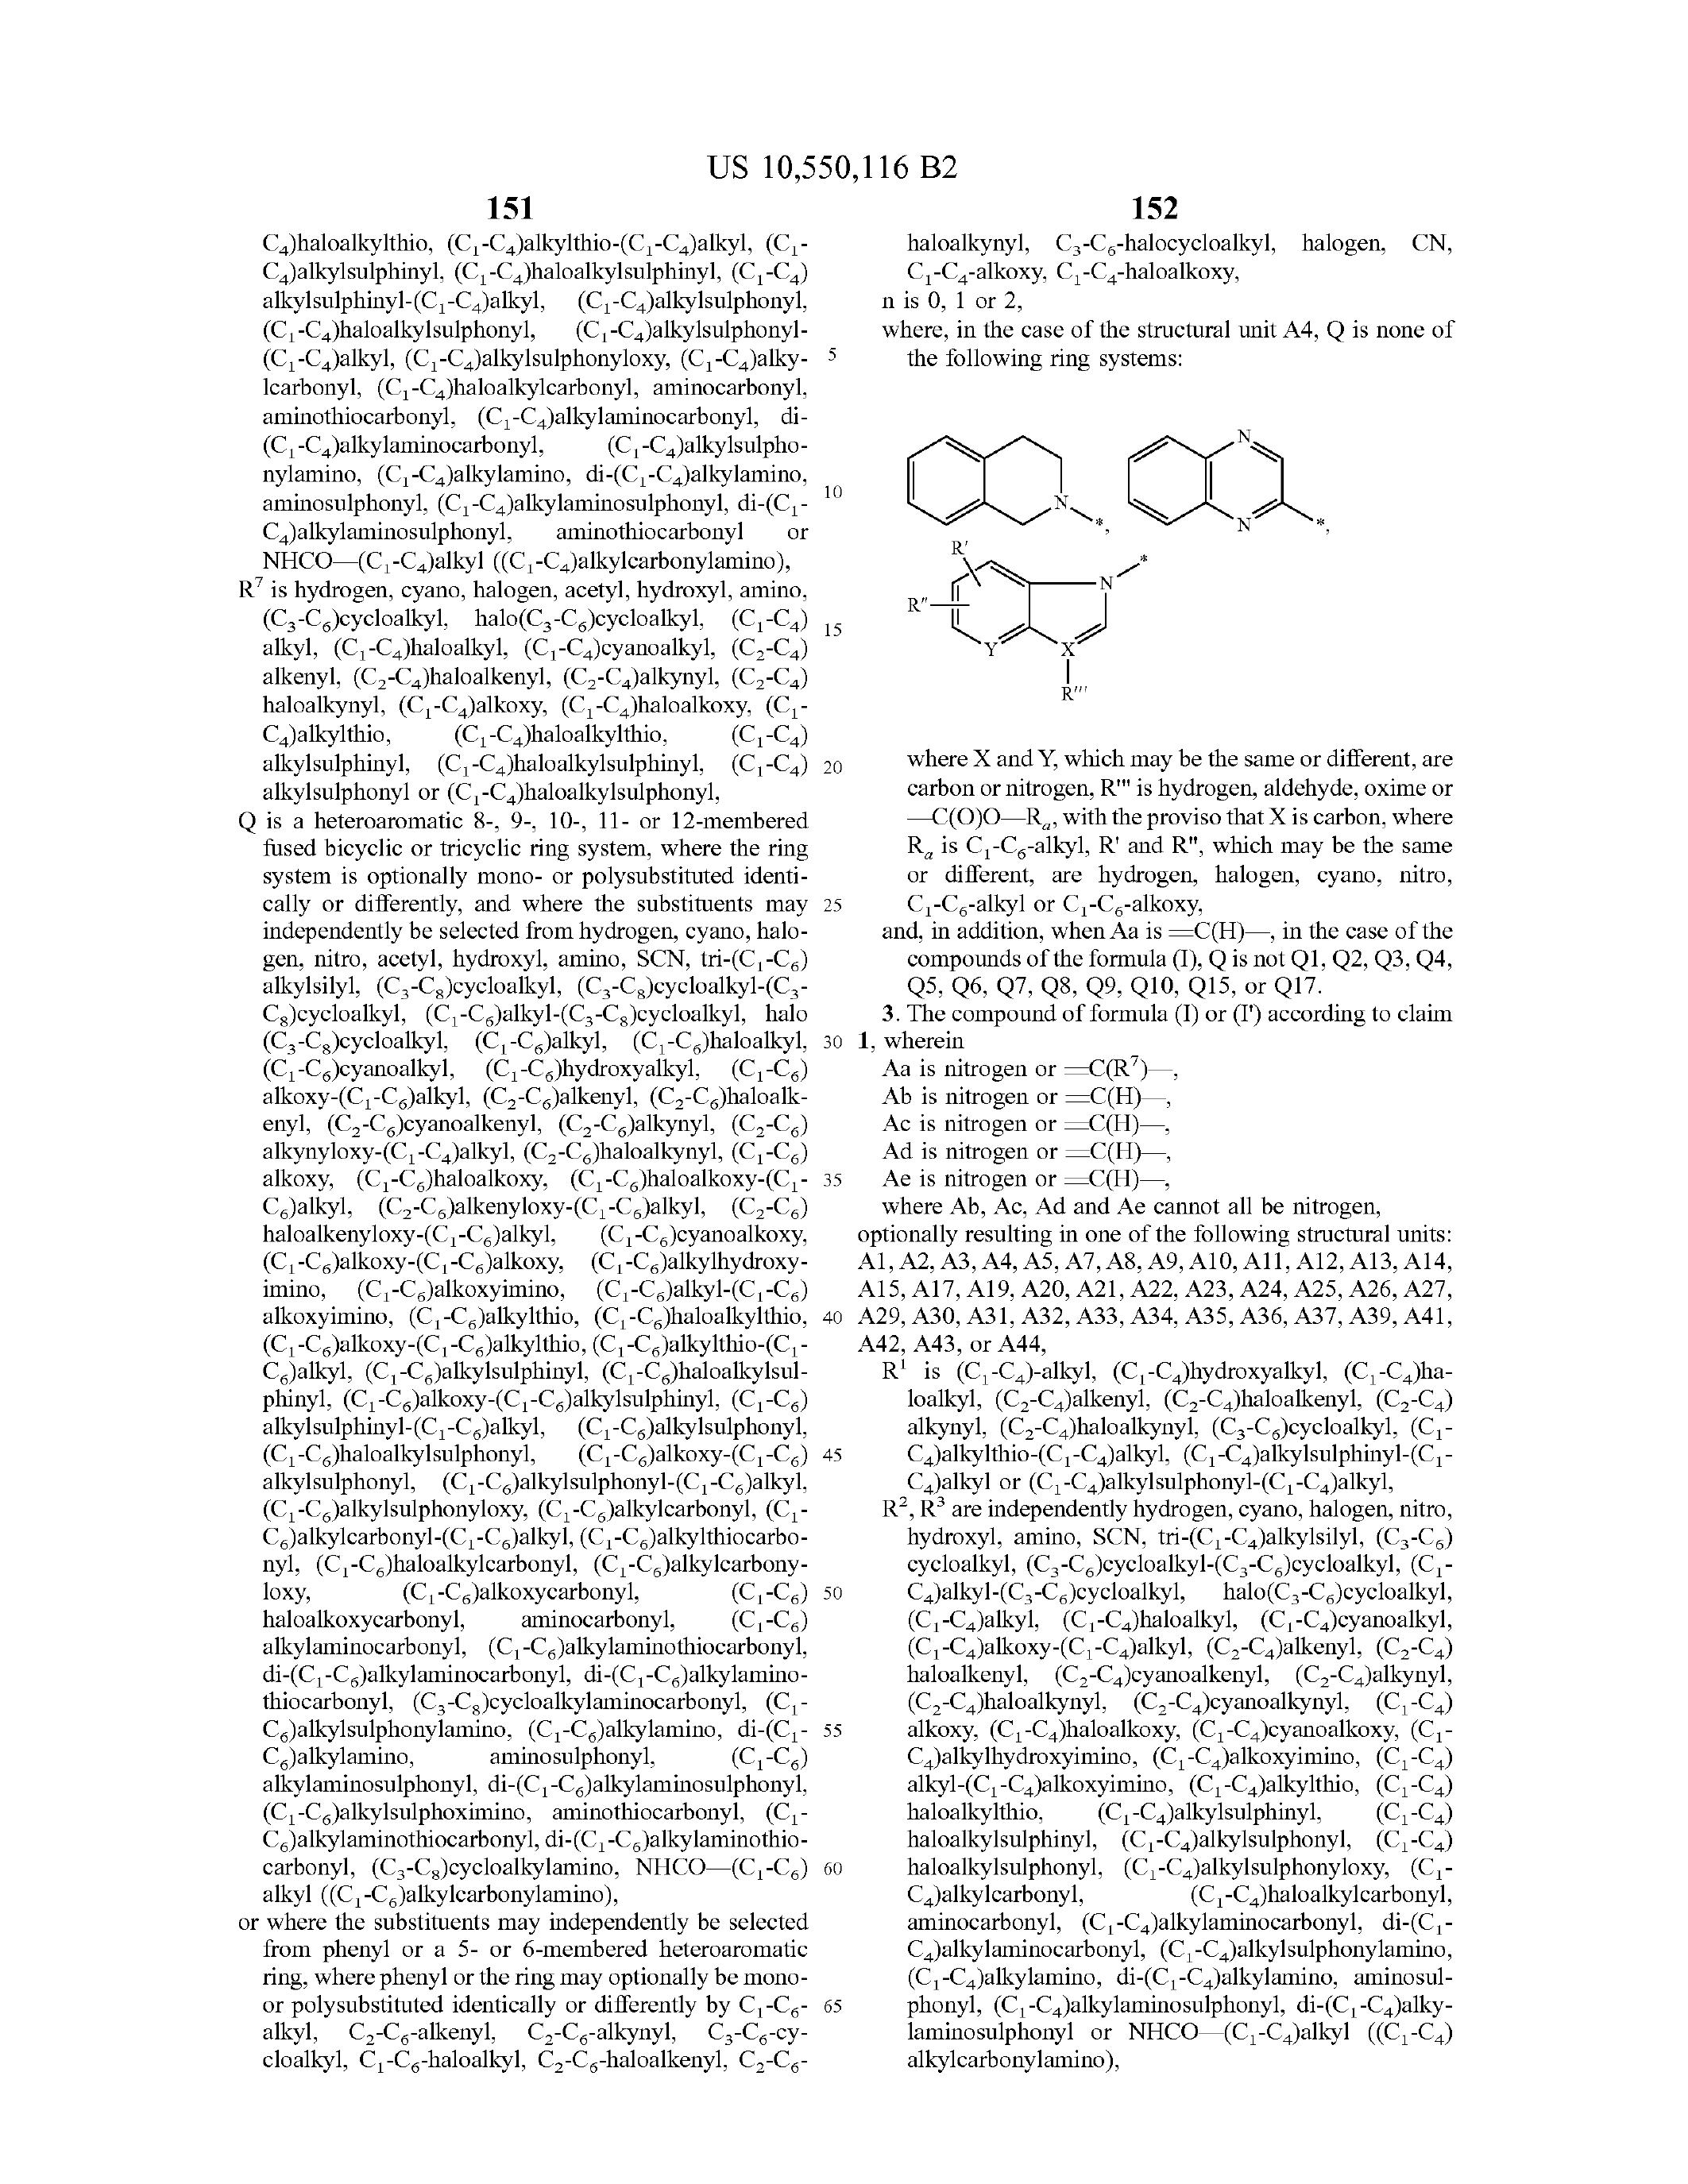substitutes: (892, 539, 1161, 702), (897, 425, 1106, 535), (1122, 425, 1330, 535)
